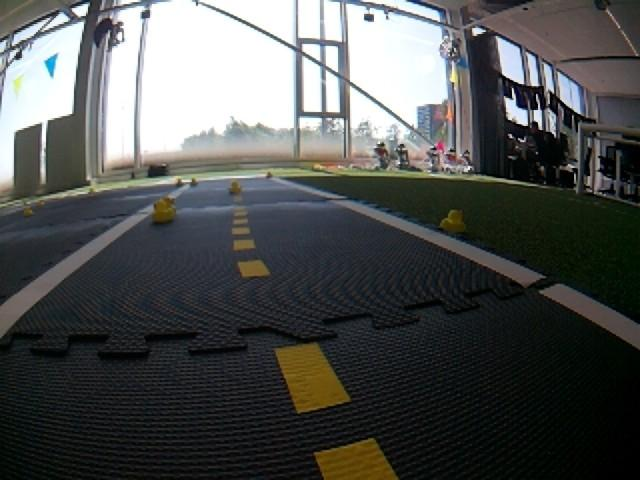Duckies: (440, 209, 467, 232), (151, 203, 176, 222), (155, 195, 174, 213), (227, 181, 241, 192), (22, 207, 33, 215), (190, 177, 199, 186), (174, 175, 182, 185), (87, 186, 95, 194), (37, 199, 45, 205), (266, 171, 273, 176)
